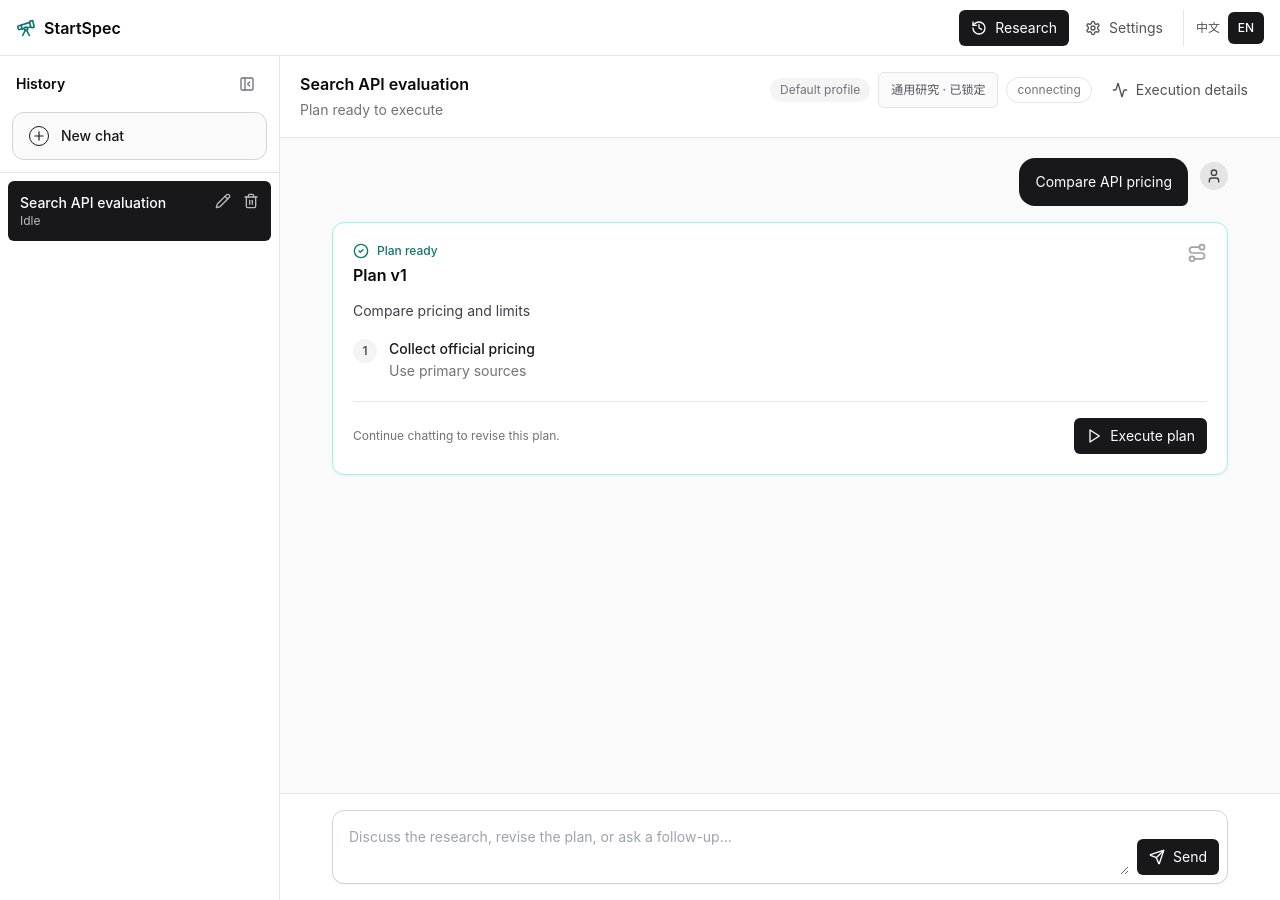
Test: App Codex-style research flow › opens execution details as an on-demand drawer
Expected: the text "Compare pricing and limits" is shown, [353,302,530,319]
Click the button "Execution details": (1180, 90) [1100,72,1260,108]
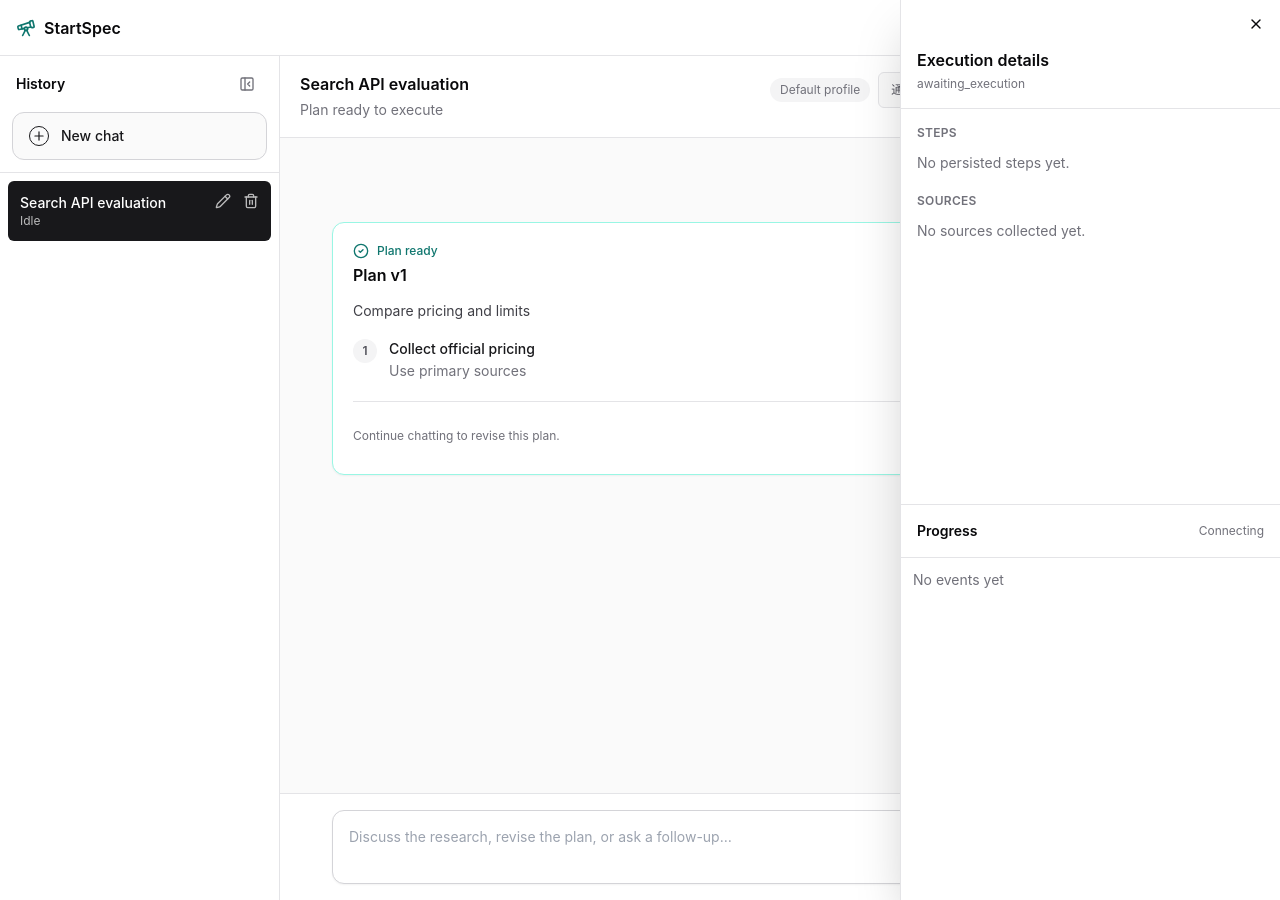
Now the heading "Execution details" is shown, box [917,50,1049,70]
